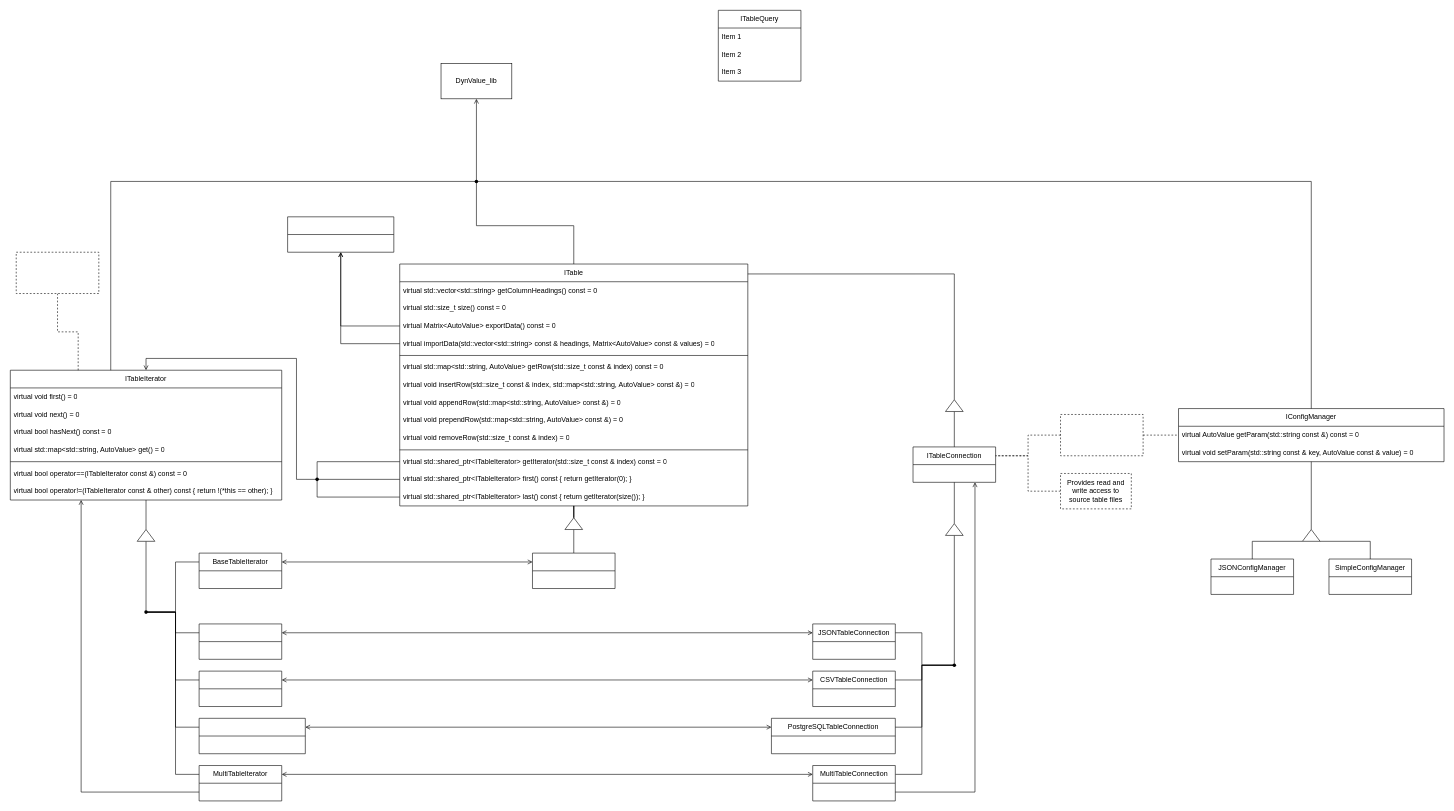
This 1454x811 diagram has some shape labels left out. Here are the shapes that lost their labels. From the top down, the centre of each, then its label:
(x=340, y=234): template <typename T> Matrix
(x=57, y=273): For reaching efficiency certain iterator has to be a friend of it's target table
(x=1101, y=435): Any certain table connection type has to use config files via IConfigManager
(x=573, y=571): BaseTable
(x=240, y=641): JSONTableIterator
(x=240, y=689): CSVTableIterator
(x=252, y=736): PostgreSQLTableIterator
